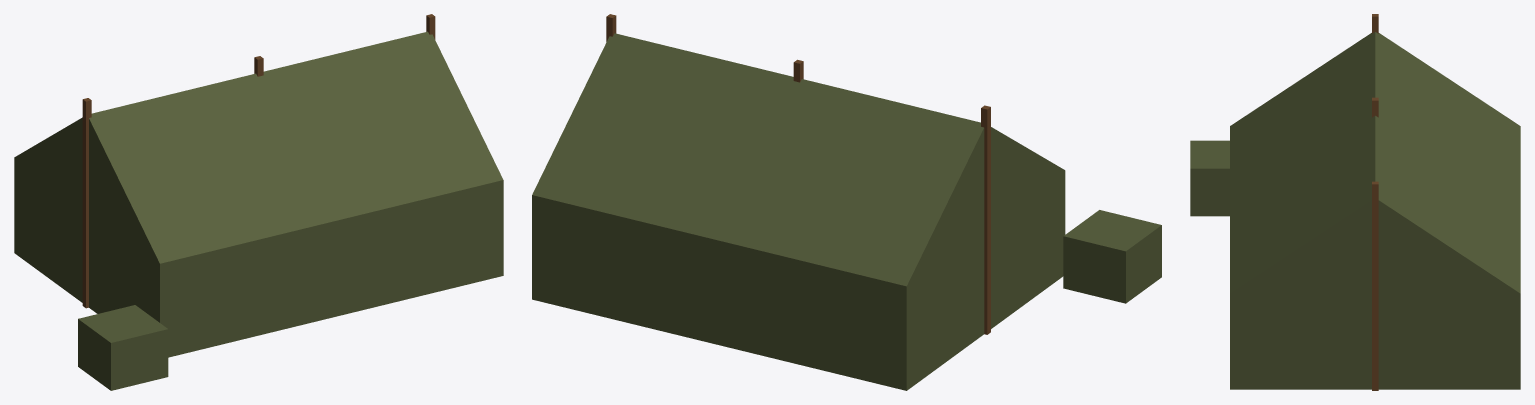
File: tent.glb
The picture shows the model from 3 angles, left to right: view 1: azimuth 30°, elevation 25°; view 2: azimuth 150°, elevation 25°; view 3: azimuth 270°, elevation 25°; orthographic projection. The views are drawn at different scales.
Parts seen in each view (by area): view 1: tent; view 2: tent; view 3: tent.
Part boxes in pixels (left/top/right/bottom): tent: left=14, top=14, right=503, bottom=390; tent: left=532, top=14, right=1161, bottom=390; tent: left=1190, top=14, right=1520, bottom=390.
Size of the model in its own units: 7.25 by 3.45 by 5.
